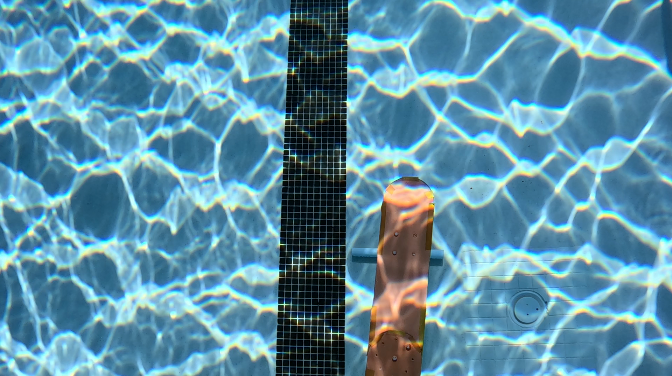pathmarker: (365, 177, 433, 375)
